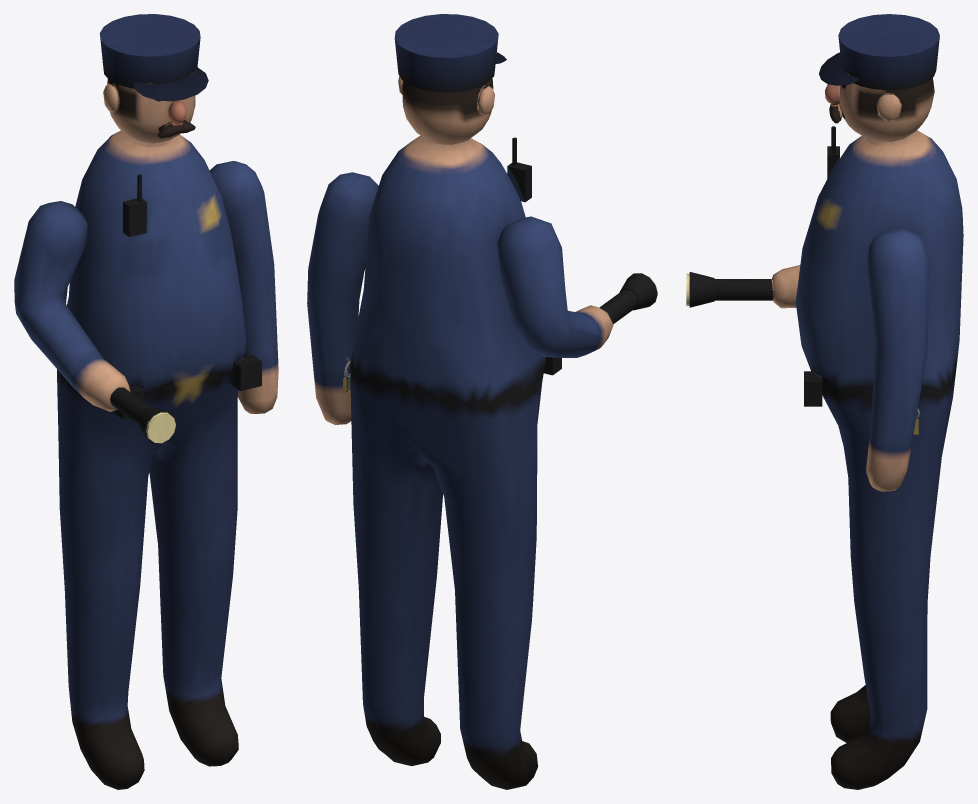
Rendered from Char_Guard.fbx.
3 views of the same model, side by side, from view 1: azimuth 30°, elevation 25°; view 2: azimuth 150°, elevation 25°; view 3: azimuth 270°, elevation 25° (orthographic). The views are drawn at different scales.
Parts seen in each view (by area): view 1: Char_Guard; view 2: Char_Guard; view 3: Char_Guard.
Part boxes in pixels (x1=…): Char_Guard: x1=14, y1=14, x2=278, y2=789; Char_Guard: x1=307, y1=14, x2=657, y2=789; Char_Guard: x1=686, y1=14, x2=963, y2=789.
Size of the model in its own units: 0.6397 by 1.77 by 0.611.
1 material, 1 textured.
